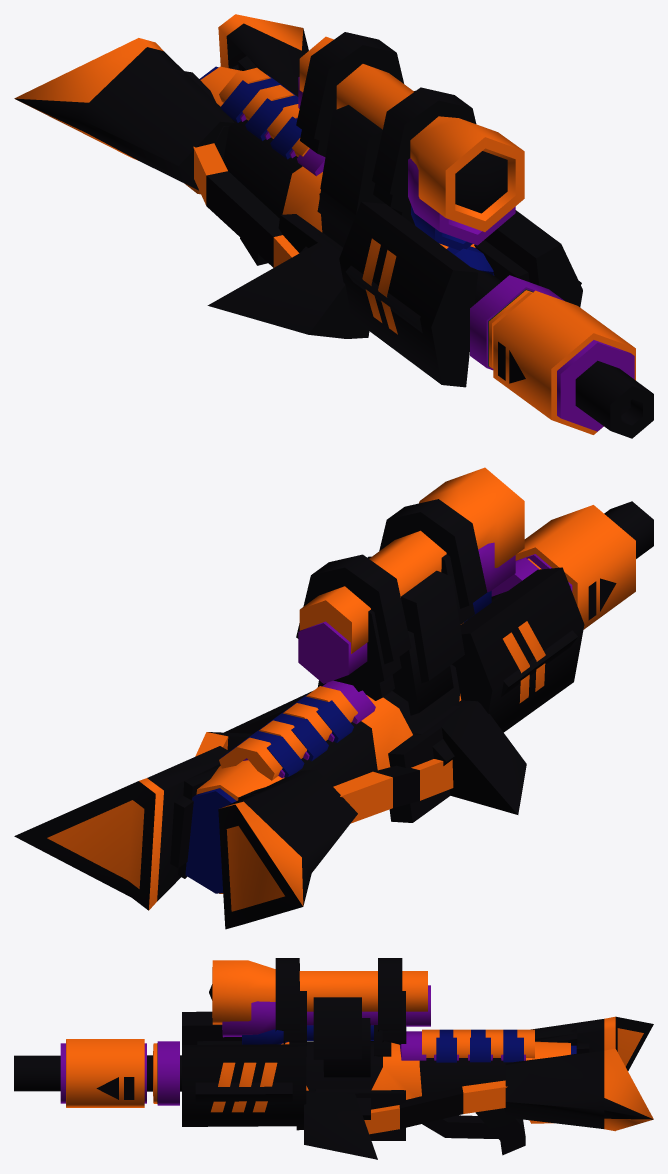
File: 01_player_L_W.FBX
3 views of the same model, one above another, from view 1: azimuth 30°, elevation 25°; view 2: azimuth 150°, elevation 25°; view 3: azimuth 270°, elevation 25° (orthographic). The views are drawn at different scales.
Visible parts, largest first — view 1: 01_player_L_5, 01_player_L_4, 01_player_L_3; view 2: 01_player_L_5, 01_player_L_4, 01_player_L_3; view 3: 01_player_L_5, 01_player_L_4, 01_player_L_3.
Boxes of the visible parts, x1,y1,x2,y2 form: 01_player_L_5: (14, 14, 653, 438); 01_player_L_4: (175, 56, 652, 437); 01_player_L_3: (199, 64, 649, 433); 01_player_L_5: (14, 467, 653, 929); 01_player_L_4: (178, 542, 577, 878); 01_player_L_3: (170, 591, 491, 893); 01_player_L_5: (14, 958, 653, 1159); 01_player_L_4: (60, 985, 577, 1138); 01_player_L_3: (242, 1025, 589, 1155).
Size of the model in its own units: 82.21 by 72.29 by 218.
